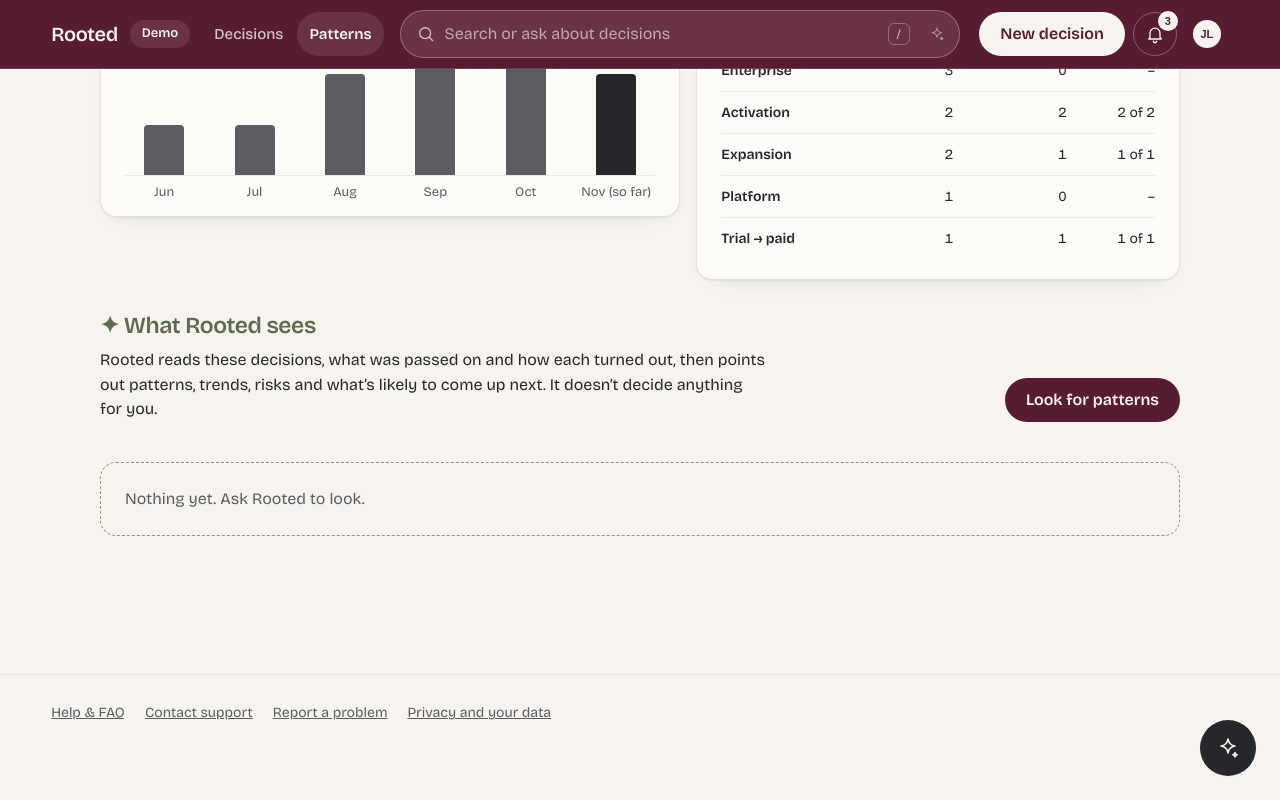
it: Patterns and trends (F-R3-05) › F-R3-05: when Rooted can’t answer, it says why and offers a retry, with no made-up insights
(page scrolled)
Click the button "Look for patterns" at point(1092, 400), box [1005,378,1180,422]
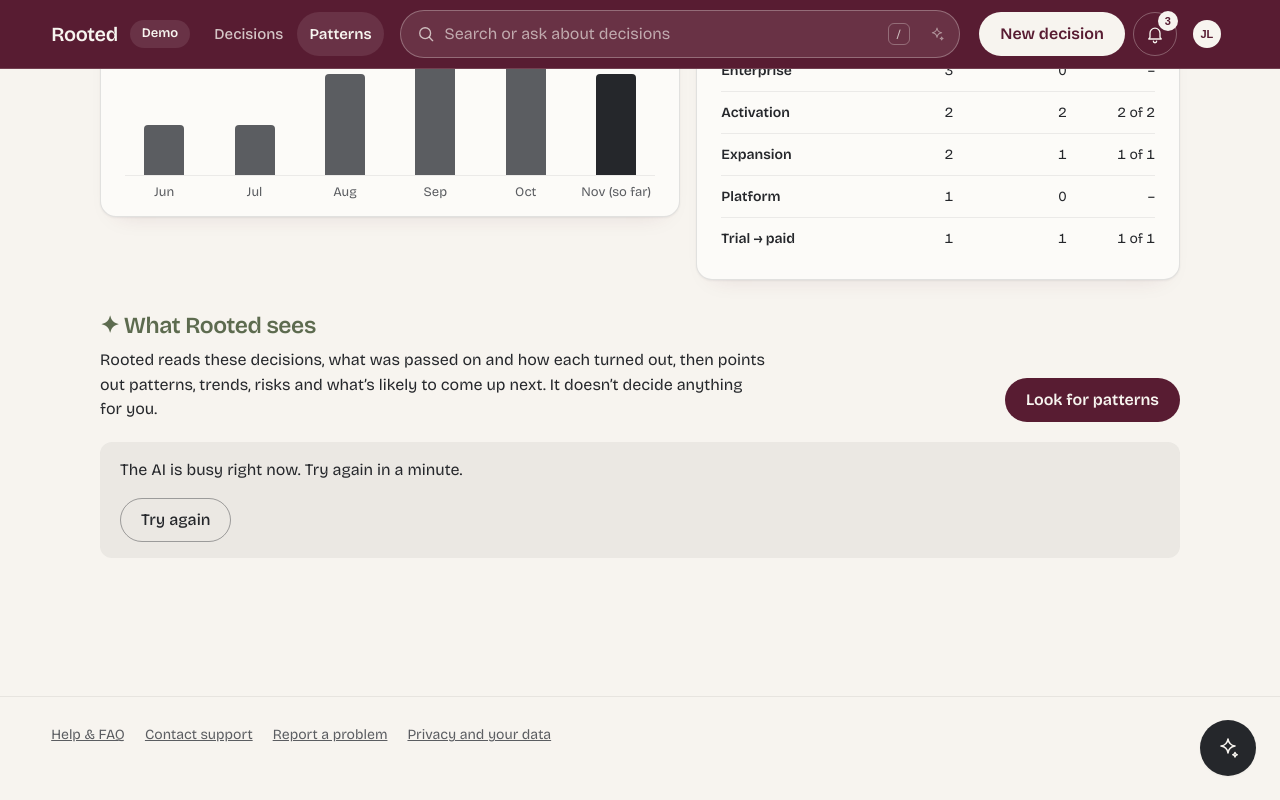
Expected: the message shows "The AI is busy right now", [120,460,462,479]
Expected: the button "Try again" is shown, [120,498,232,542]
